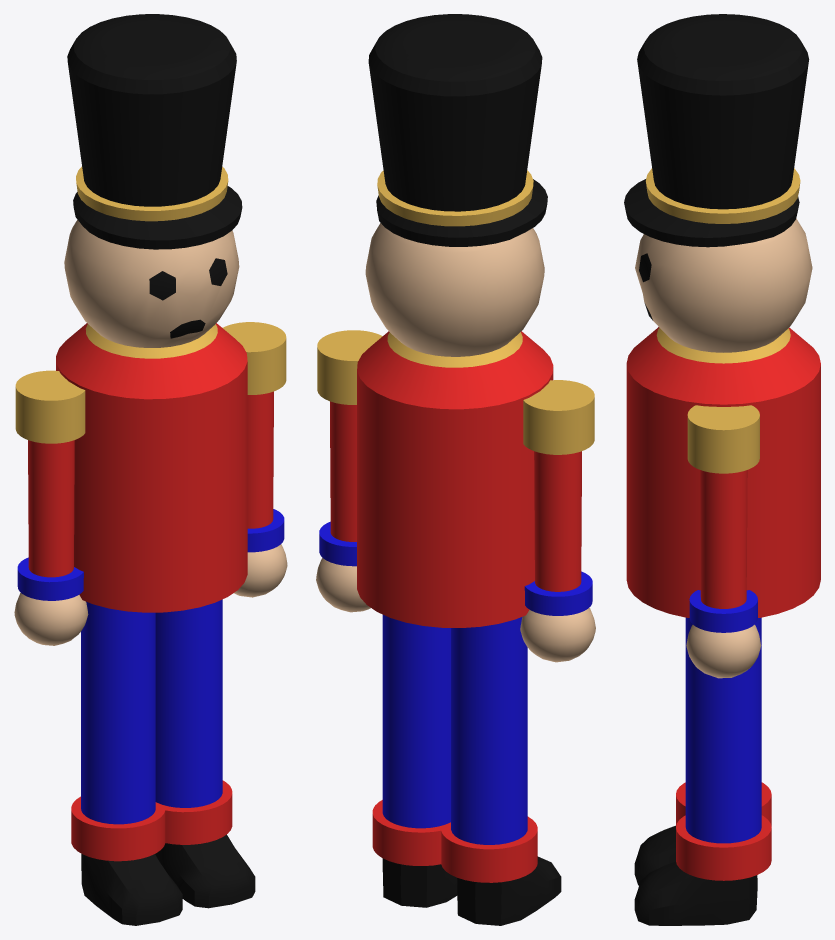
File: ToySoldier.fbx
3 renders of one model, left to right at view 1: azimuth 30°, elevation 25°; view 2: azimuth 150°, elevation 25°; view 3: azimuth 270°, elevation 25°, orthographic. The views are drawn at different scales.
Parts seen in each view (by area): view 1: ToySoldier; view 2: ToySoldier; view 3: ToySoldier.
Boxes of the visible parts, bbox=[...] form: ToySoldier: bbox=[14, 14, 287, 925]; ToySoldier: bbox=[316, 14, 595, 925]; ToySoldier: bbox=[624, 14, 820, 925].
Size of the model in its own units: 25.66 by 78.22 by 16.41.
